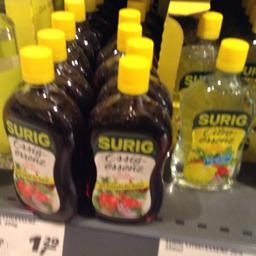vinegar: (84, 55, 170, 223), (2, 46, 79, 223), (172, 36, 252, 190)
